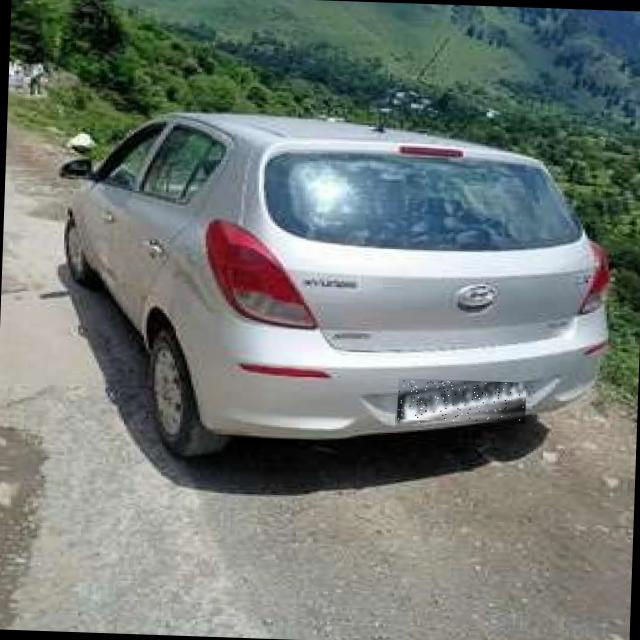Plate: (398, 379, 527, 424)
